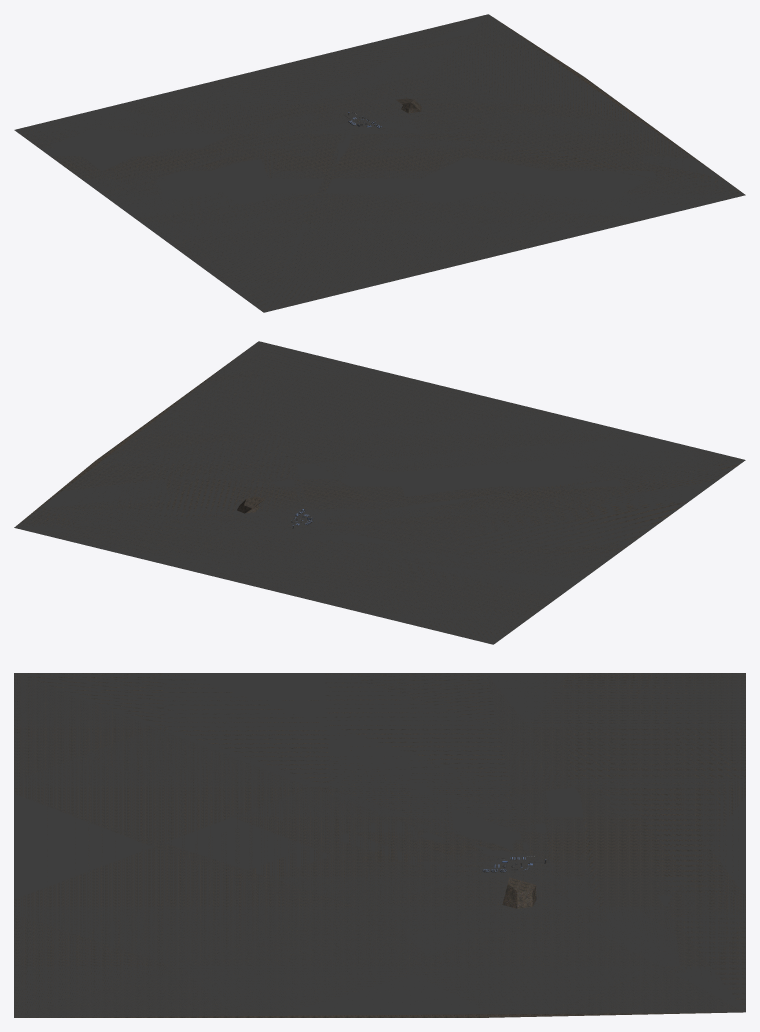
3 renders of one model, top to bottom at view 1: azimuth 30°, elevation 25°; view 2: azimuth 150°, elevation 25°; view 3: azimuth 270°, elevation 25°, orthographic. The views are drawn at different scales.
Visible parts, largest first — view 1: SketchUp (×2); view 2: SketchUp (×2); view 3: SketchUp (×3).
Part boxes in pixels (x1,y1,x2,y2): SketchUp (×2): (14,14,745,312); SketchUp (×2): (14,341,745,644); SketchUp (×3): (14,673,745,1017).
Bounding box in the file's own units: 438418 × 393430 × 9037.
